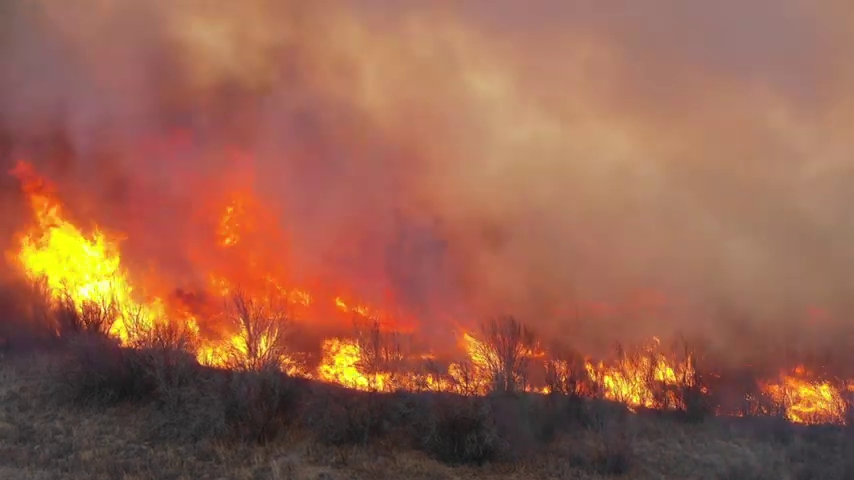forest_fire: (7, 162, 708, 408), (757, 365, 853, 422), (215, 200, 256, 252), (718, 410, 738, 413), (55, 324, 62, 326), (64, 324, 65, 326), (230, 272, 231, 273)
